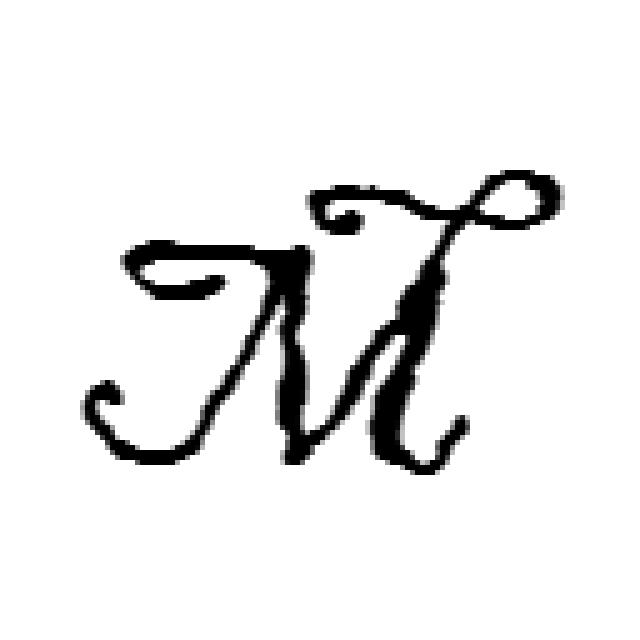M: (216, 246, 464, 490)
